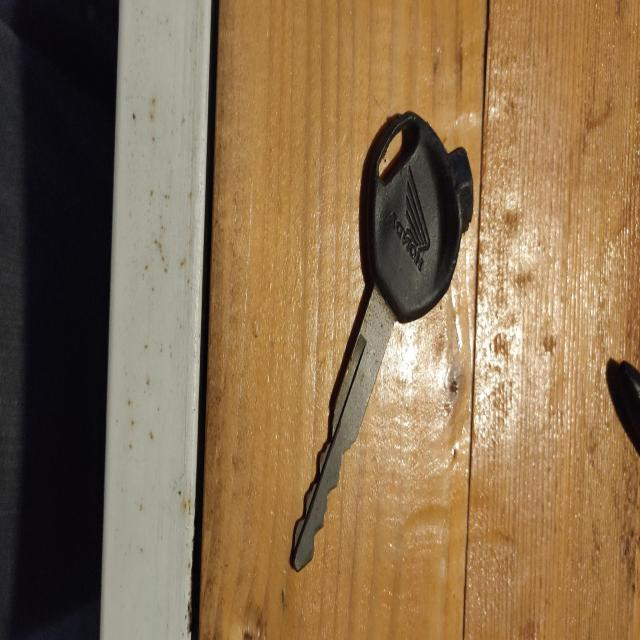kunci_motor: (286, 86, 479, 580)
